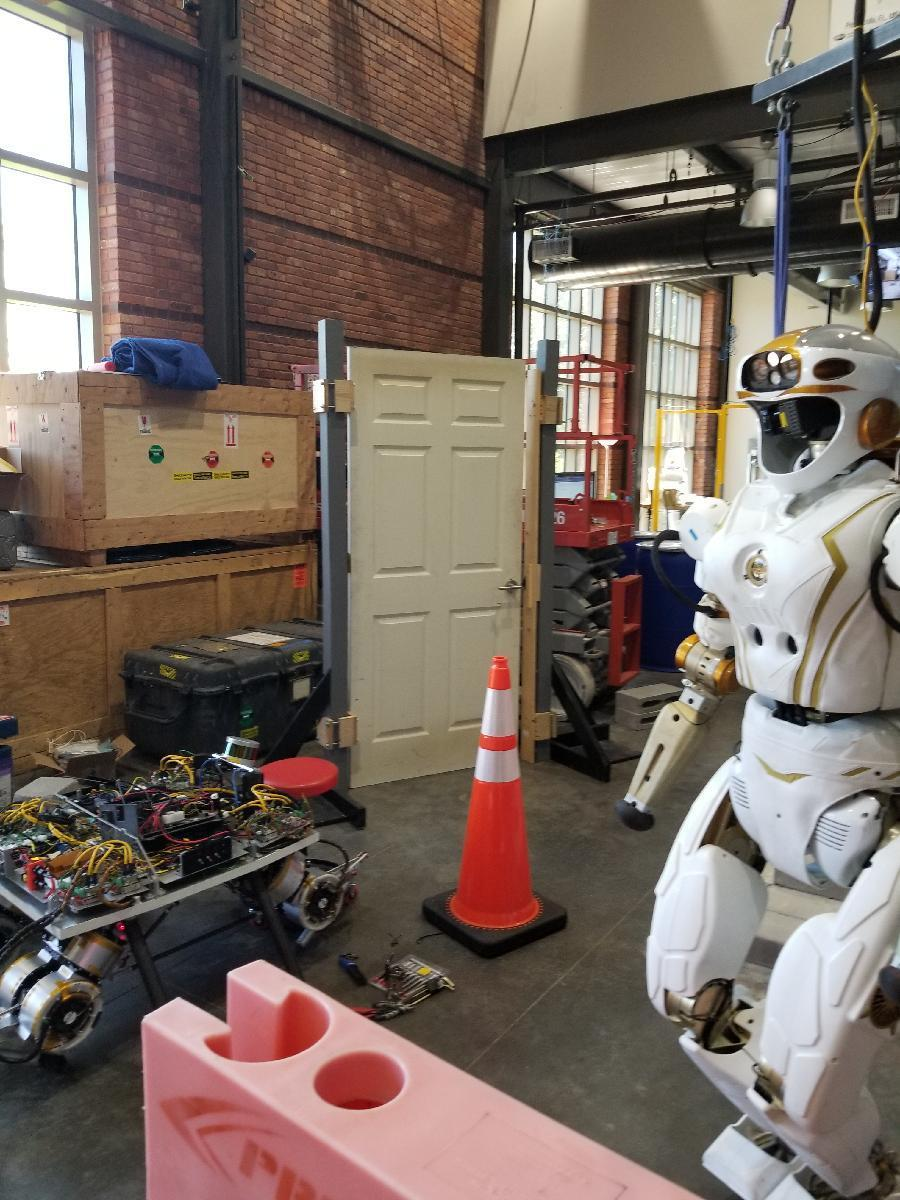door: (346, 348, 528, 773)
handle: (496, 578, 522, 596)
